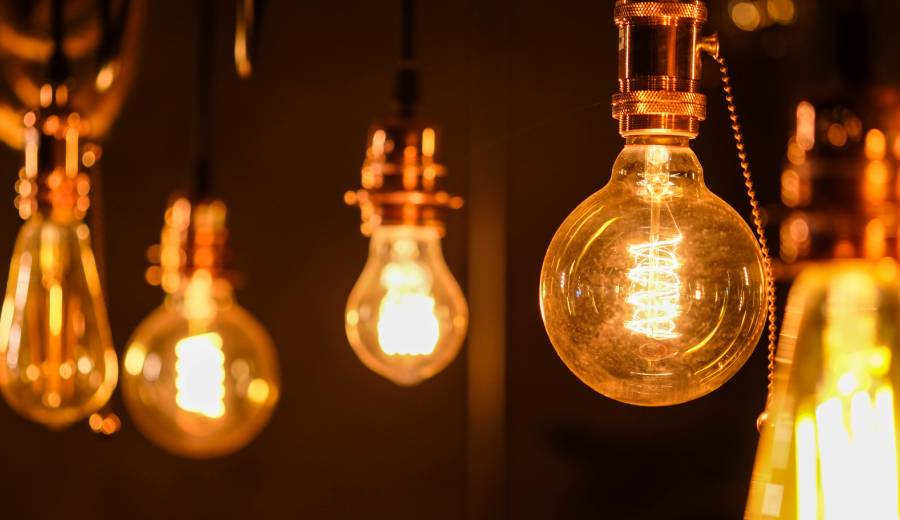Light_bulb: (523, 123, 780, 420), (336, 215, 476, 390)
